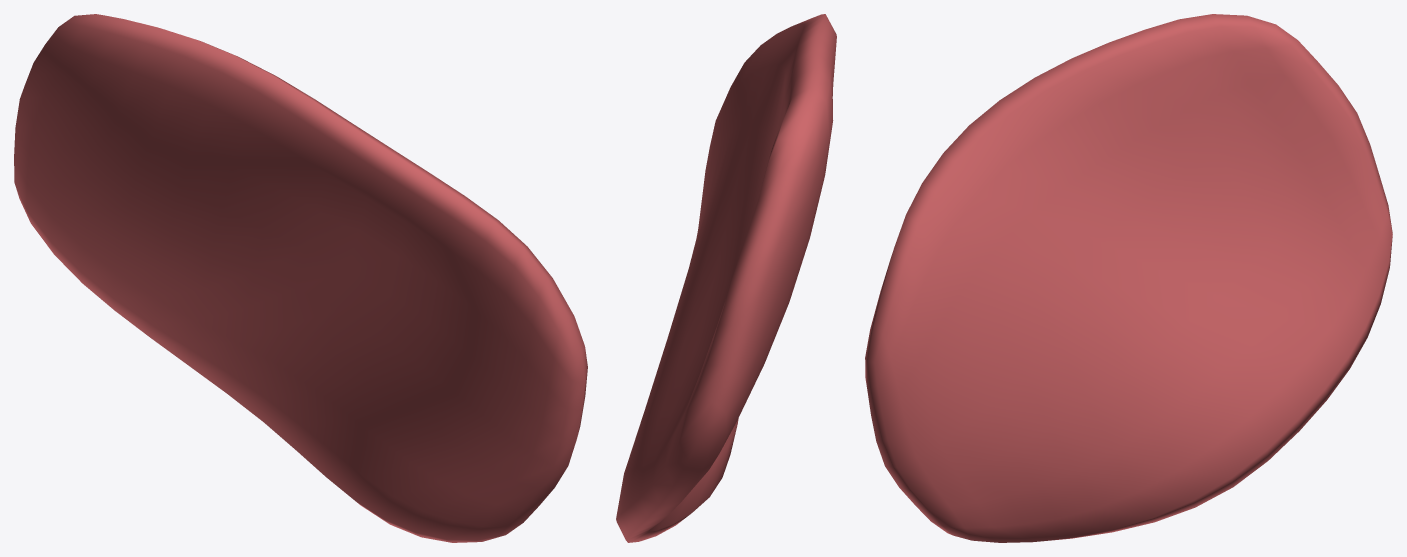
3 renders of one model, left to right at view 1: azimuth 30°, elevation 25°; view 2: azimuth 150°, elevation 25°; view 3: azimuth 270°, elevation 25°, orthographic. The views are drawn at different scales.
Visible parts, largest first — view 1: 左侧胫骨前肌腱下囊; view 2: 左侧胫骨前肌腱下囊; view 3: 左侧胫骨前肌腱下囊.
Boxes of the visible parts, x1,y1,x2,y2 form: 左侧胫骨前肌腱下囊: [14, 14, 587, 542]; 左侧胫骨前肌腱下囊: [616, 14, 836, 542]; 左侧胫骨前肌腱下囊: [865, 14, 1392, 542].
Bounding box in the file's own units: 0.0111 × 0.017 × 0.0183.
